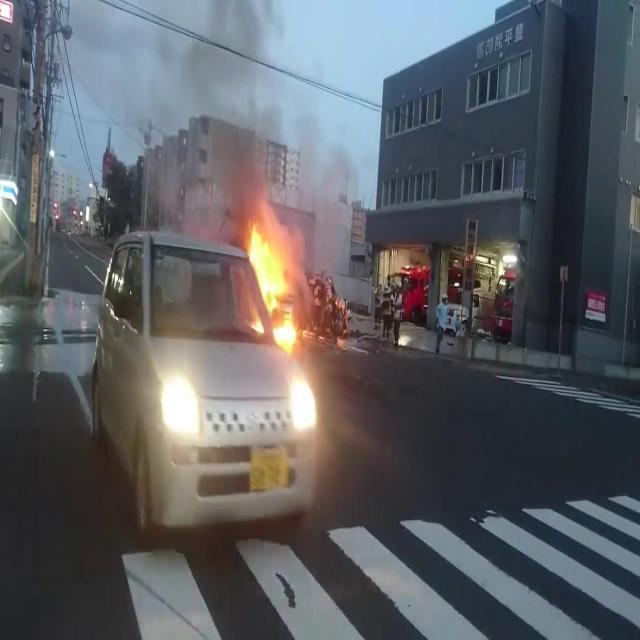Fire: (251, 224, 293, 314), (271, 320, 297, 352), (252, 319, 264, 335)
